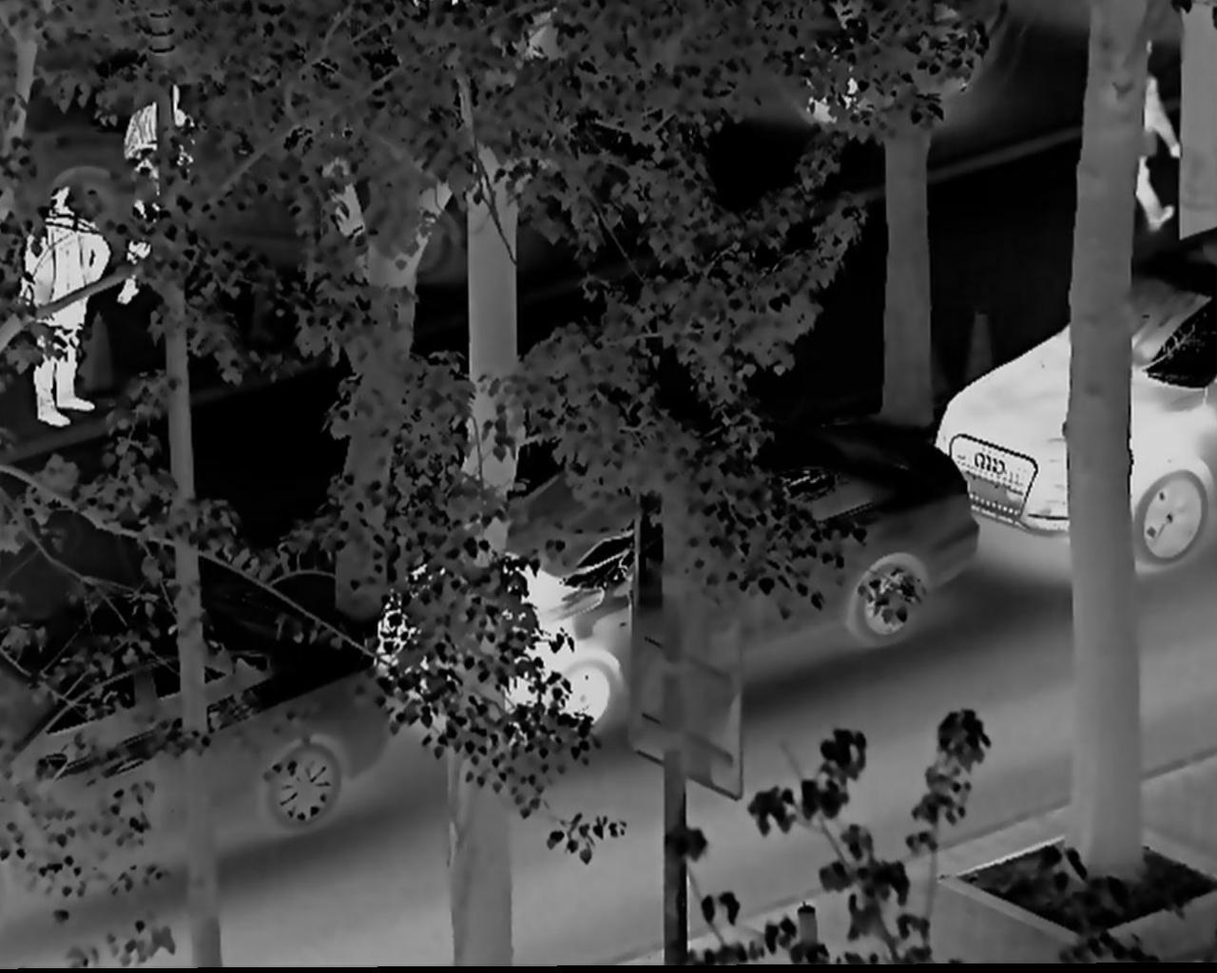person: (19, 188, 111, 437), (110, 83, 201, 306), (1121, 37, 1182, 240)
